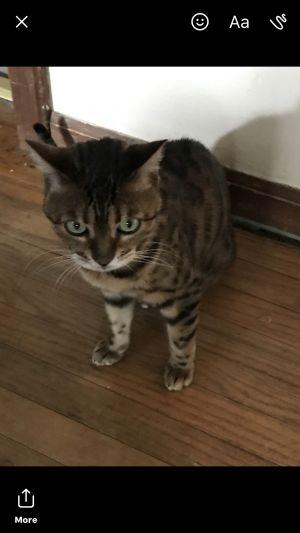bengal: (17, 122, 176, 285)
